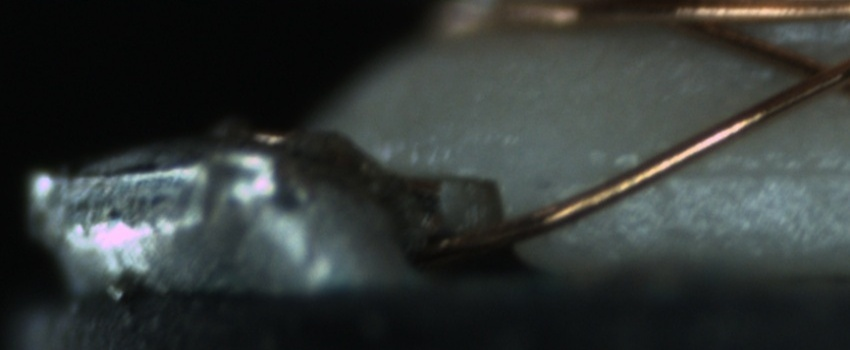CL: (774, 45, 850, 103)
DL: (619, 142, 849, 206)
TE: (243, 122, 300, 148)
